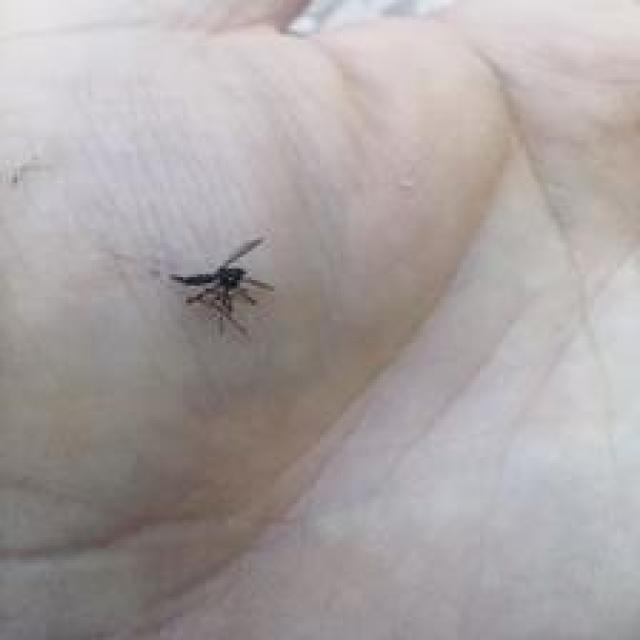Aedes albopictus: (167, 234, 276, 337)
